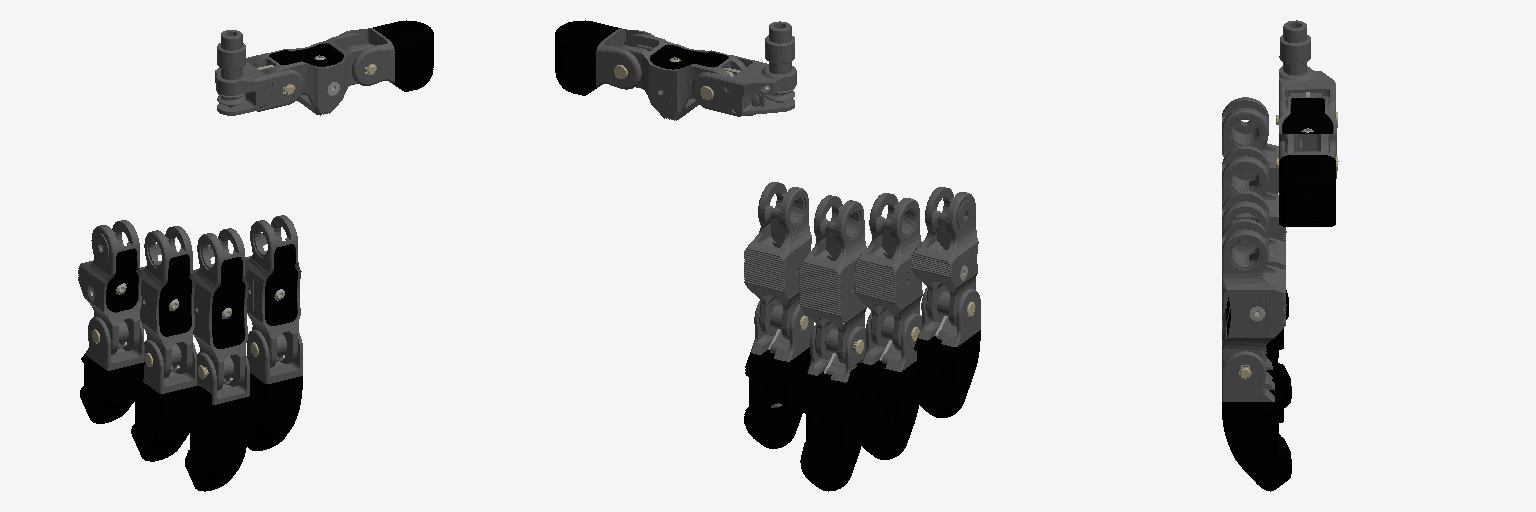
--- What the picture shows (computed from the rendered views, not written in the file) ---
Views: 3 orthographic renders of the robot side by side, from view 1: azimuth 30°, elevation 25°; view 2: azimuth 150°, elevation 25°; view 3: azimuth 270°, elevation 25°.
Model ur10e_robot with 23 links and 22 joints (17 revolute, 5 fixed), rooted at base_link, posed all joints at 0.
Visible links, largest first — view 1: mf_proximal, rf_proximal, if_proximal, mf_distal, lf_proximal, rf_distal, if_distal, lf_distal, th_inter, th_proximal, th_distal; view 2: mf_proximal, mf_distal, rf_proximal, if_proximal, if_distal, rf_distal, lf_proximal, lf_distal, th_proximal, th_inter, th_distal; view 3: if_distal, if_proximal, th_distal, th_proximal, th_inter, lf_proximal, rf_proximal, mf_proximal, rf_distal.
Boxes of the visible links, bbox=[...] form: mf_proximal: bbox=[193, 228, 248, 390]; rf_proximal: bbox=[140, 226, 195, 378]; if_proximal: bbox=[245, 215, 301, 367]; mf_distal: bbox=[185, 352, 249, 491]; lf_proximal: bbox=[78, 220, 142, 354]; rf_distal: bbox=[131, 340, 196, 461]; if_distal: bbox=[247, 330, 302, 450]; lf_distal: bbox=[80, 317, 144, 423]; th_inter: bbox=[252, 33, 376, 115]; th_proximal: bbox=[215, 30, 303, 115]; th_distal: bbox=[339, 20, 433, 91]; mf_proximal: bbox=[799, 195, 866, 364]; mf_distal: bbox=[800, 325, 865, 491]; rf_proximal: bbox=[855, 193, 922, 350]; if_proximal: bbox=[744, 182, 811, 340]; if_distal: bbox=[744, 301, 813, 448]; rf_distal: bbox=[855, 311, 921, 459]; lf_proximal: bbox=[911, 187, 978, 336]; lf_distal: bbox=[912, 288, 980, 417]; th_proximal: bbox=[692, 21, 796, 116]; th_inter: bbox=[614, 34, 745, 120]; th_distal: bbox=[555, 20, 654, 95]; if_distal: bbox=[1222, 348, 1291, 489]; if_proximal: bbox=[1222, 219, 1286, 367]; th_distal: bbox=[1279, 141, 1335, 226]; th_proximal: bbox=[1276, 20, 1337, 127]; th_inter: bbox=[1276, 96, 1338, 178]; lf_proximal: bbox=[1222, 97, 1278, 206]; rf_proximal: bbox=[1222, 146, 1286, 293]; mf_proximal: bbox=[1222, 191, 1285, 350]; rf_distal: bbox=[1222, 288, 1291, 407].
Size in the robot's own frame: 0.1735 by 0.0442 by 0.2008 metres.
11 mesh visuals loaded from 19 distinct referenced files (11 Collada DAE); not drawn: 8 (reference not matched to a file when rendering).

robot.urdf — ur10e_robot:
<?xml version="1.0" encoding="utf-8"?>
<!-- =================================================================================== -->
<!-- |    This document was autogenerated by xacro from ur10e.xacro                    | -->
<!-- |    EDITING THIS FILE BY HAND IS NOT RECOMMENDED                                 | -->
<!-- =================================================================================== -->
<robot name="ur10e_robot">
  <!--
    Base UR robot series xacro macro.

    NOTE: this is NOT a URDF. It cannot directly be loaded by consumers
    expecting a flattened '.urdf' file. See the top-level '.xacro' for that
    (but note: that .xacro must still be processed by the xacro command).

    For use in '.launch' files: use one of the 'load_urX.launch' convenience
    launch files.

    This file models the base kinematic chain of a UR robot, which then gets
    parameterised by various configuration files to convert it into a UR3(e),
    UR5(e), UR10(e) or UR16e.

    NOTE: the default kinematic parameters (ie: link lengths, frame locations,
    offets, etc) do not correspond to any particular robot. They are defaults
    only. There WILL be non-zero offsets between the Forward Kinematics results
    in TF (ie: robot_state_publisher) and the values reported by the Teach
    Pendant.

    For accurate (and robot-specific) transforms, the 'kinematics_parameters_file'
    parameter MUST point to a .yaml file containing the appropriate values for
    the targetted robot.

    If using the UniversalRobots/Universal_Robots_ROS_Driver, follow the steps
    described in the readme of that repository to extract the kinematic
    calibration from the controller and generate the required .yaml file.

    Main author of the migration to yaml configs: Ludovic Delval.

    Contributors to previous versions (in no particular order):

     - Felix Messmer
     - Kelsey Hawkins
     - Wim Meeussen
     - Shaun Edwards
     - Nadia Hammoudeh Garcia
     - Dave Hershberger
     - G. vd. Hoorn
     - Philip Long
     - Dave Coleman
     - Miguel Prada
     - Mathias Luedtke
     - Marcel Schnirring
     - Felix von Drigalski
     - Felix Exner
     - Jimmy Da Silva
     - Ajit Krisshna N L
     - Muhammad Asif Rana
  -->
  <!--
    NOTE: the macro defined in this file is NOT part of the public API of this
          package. Users CANNOT rely on this file being available, or stored in
          this location. Nor can they rely on the existence of the macro.
  -->
  <transmission name="shoulder_pan_trans">
    <type>transmission_interface/SimpleTransmission</type>
    <joint name="shoulder_pan_joint">
      <hardwareInterface>hardware_interface/PositionJointInterface</hardwareInterface>
    </joint>
    <actuator name="shoulder_pan_motor">
      <mechanicalReduction>1</mechanicalReduction>
    </actuator>
  </transmission>
  <transmission name="shoulder_lift_trans">
    <type>transmission_interface/SimpleTransmission</type>
    <joint name="shoulder_lift_joint">
      <hardwareInterface>hardware_interface/PositionJointInterface</hardwareInterface>
    </joint>
    <actuator name="shoulder_lift_motor">
      <mechanicalReduction>1</mechanicalReduction>
    </actuator>
  </transmission>
  <transmission name="elbow_trans">
    <type>transmission_interface/SimpleTransmission</type>
    <joint name="elbow_joint">
      <hardwareInterface>hardware_interface/PositionJointInterface</hardwareInterface>
    </joint>
    <actuator name="elbow_motor">
      <mechanicalReduction>1</mechanicalReduction>
    </actuator>
  </transmission>
  <transmission name="wrist_1_trans">
    <type>transmission_interface/SimpleTransmission</type>
    <joint name="wrist_1_joint">
      <hardwareInterface>hardware_interface/PositionJointInterface</hardwareInterface>
    </joint>
    <actuator name="wrist_1_motor">
      <mechanicalReduction>1</mechanicalReduction>
    </actuator>
  </transmission>
  <transmission name="wrist_2_trans">
    <type>transmission_interface/SimpleTransmission</type>
    <joint name="wrist_2_joint">
      <hardwareInterface>hardware_interface/PositionJointInterface</hardwareInterface>
    </joint>
    <actuator name="wrist_2_motor">
      <mechanicalReduction>1</mechanicalReduction>
    </actuator>
  </transmission>
  <transmission name="wrist_3_trans">
    <type>transmission_interface/SimpleTransmission</type>
    <joint name="wrist_3_joint">
      <hardwareInterface>hardware_interface/PositionJointInterface</hardwareInterface>
    </joint>
    <actuator name="wrist_3_motor">
      <mechanicalReduction>1</mechanicalReduction>
    </actuator>
  </transmission>
  <!-- links: main serial chain -->
  <link name="base_link"/>
  <link name="base_link_inertia">
    <visual>
      <!--origin rpy="0 0 3.14159265359" xyz="0 0 0"/-->
      <origin rpy="1.57079632679 0 0" xyz="0 0 0"/>
      <geometry>
        <mesh filename="../meshes/ur10e/visual/base.dae"/>
      </geometry>
      <material name="LightGrey">
        <color rgba="0.7 0.7 0.7 1.0"/>
      </material>
    </visual>
    <collision>
      <origin rpy="0 0 3.14159265359" xyz="0 0 0"/>
      <geometry>
        <mesh filename="../meshes/ur10e/collision/base.stl"/>
      </geometry>
    </collision>
    <inertial>
      <mass value="4.0"/>
      <origin rpy="0 0 0" xyz="0 0 0"/>
      <inertia ixx="0.0061063308908" ixy="0.0" ixz="0.0" iyy="0.0061063308908" iyz="0.0" izz="0.01125"/>
    </inertial>
  </link>

  <link name="shoulder_link">
    <visual>
      <origin rpy="1.57079632679 0 3.14159265359" xyz="0 0 0"/>
      <geometry>
        <mesh filename="../meshes/ur10e/visual/shoulder.dae"/>
      </geometry>
      <material name="LightGrey">
        <color rgba="0.7 0.7 0.7 1.0"/>
      </material>
    </visual>
    <collision>
      <origin rpy="0 0 3.14159265359" xyz="0 0 0"/>
      <geometry>
        <mesh filename="../meshes/ur10e/collision/shoulder.stl"/>
      </geometry>
    </collision>
    <inertial>
      <mass value="7.778"/>
      <origin rpy="0 0 0" xyz="0 0 0"/>
      <inertia ixx="0.0314743125769" ixy="0.0" ixz="0.0" iyy="0.0314743125769" iyz="0.0" izz="0.021875625"/>
    </inertial>
  </link>

  <link name="upper_arm_link">
    <visual>
      <origin rpy="3.14159265359 0 -1.57079632679" xyz="0 0 0.1762"/>
      <geometry>
        <mesh filename="../meshes/ur10e/visual/upperarm.dae"/>
      </geometry>
      <material name="LightGrey">
        <color rgba="0.7 0.7 0.7 1.0"/>
      </material>
    </visual>
    <collision>
      <origin rpy="1.57079632679 0 -1.57079632679" xyz="0 0 0.1762"/>
      <geometry>
        <mesh filename="../meshes/ur10e/collision/upperarm.stl"/>
      </geometry>
    </collision>
    <inertial>
      <mass value="12.93"/>
      <origin rpy="0 1.57079632679 0" xyz="-0.306 0.0 0.175"/>
      <inertia ixx="0.421753803798" ixy="0.0" ixz="0.0" iyy="0.421753803798" iyz="0.0" izz="0.036365625"/>
    </inertial>
  </link>
  <link name="forearm_link">
    <visual>
      <origin rpy="3.14159265359 0 -1.57079632679" xyz="0 0 0.0393"/>
      <geometry>
        <mesh filename="../meshes/ur10e/visual/forearm.dae"/>
      </geometry>
      <material name="LightGrey">
        <color rgba="0.7 0.7 0.7 1.0"/>
      </material>
    </visual>
    <collision>
      <origin rpy="1.57079632679 0 -1.57079632679" xyz="0 0 0.0393"/>
      <geometry>
        <mesh filename="../meshes/ur10e/collision/forearm.stl"/>
      </geometry>
    </collision>
    <inertial>
      <mass value="3.87"/>
      <origin rpy="0 1.57079632679 0" xyz="-0.285775 0.0 0.0393"/>
      <inertia ixx="0.110793025489" ixy="0.0" ixz="0.0" iyy="0.110793025489" iyz="0.0" izz="0.010884375"/>
    </inertial>
  </link>
  <link name="wrist_1_link">
    <visual>
      <!-- TODO: Move this to a parameter -->
      <origin rpy="3.14159265359 0 0" xyz="0 0 -0.135"/>
      <geometry>
        <mesh filename="../meshes/ur10e/visual/wrist1.dae"/>
      </geometry>
      <material name="LightGrey">
        <color rgba="0.7 0.7 0.7 1.0"/>
      </material>
    </visual>
    <collision>
      <origin rpy="1.57079632679 0 0" xyz="0 0 -0.135"/>
      <geometry>
        <mesh filename="../meshes/ur10e/collision/wrist1.stl"/>
      </geometry>
    </collision>
    <inertial>
      <mass value="1.96"/>
      <origin rpy="0 0 0" xyz="0 0 0"/>
      <inertia ixx="0.0051082479567" ixy="0.0" ixz="0.0" iyy="0.0051082479567" iyz="0.0" izz="0.0055125"/>
    </inertial>
  </link>
  <link name="wrist_2_link">
    <visual>
      <origin rpy="1.57079632679 0 0" xyz="0 0 -0.12"/>
      <geometry>
        <mesh filename="../meshes/ur10e/visual/wrist2.dae"/>
      </geometry>
      <material name="LightGrey">
        <color rgba="0.7 0.7 0.7 1.0"/>
      </material>
    </visual>
    <collision>
      <origin rpy="0 0 0" xyz="0 0 -0.12"/>
      <geometry>
        <mesh filename="../meshes/ur10e/collision/wrist2.stl"/>
      </geometry>
    </collision>
    <inertial>
      <mass value="1.96"/>
      <origin rpy="0 0 0" xyz="0 0 0"/>
      <inertia ixx="0.0051082479567" ixy="0.0" ixz="0.0" iyy="0.0051082479567" iyz="0.0" izz="0.0055125"/>
    </inertial>
  </link>
  <link name="wrist_3_link">
    <visual>
      <origin rpy="3.14159265359 0 0" xyz="0 0 -0.1168"/>
      <geometry>
        <mesh filename="../meshes/ur10e/visual/wrist3.dae"/>
      </geometry>
      <material name="LightGrey">
        <color rgba="0.7 0.7 0.7 1.0"/>
      </material>
    </visual>
    <collision>
      <origin rpy="1.57079632679 0 0" xyz="0 0 -0.1168"/>
      <geometry>
        <mesh filename="../meshes/ur10e/collision/wrist3.stl"/>
      </geometry>
    </collision>
    <inertial>
      <mass value="0.202"/>
      <origin rpy="0 0 0" xyz="0.0 0.0 -0.025"/>
      <inertia ixx="0.000144345775595" ixy="0.0" ixz="0.0" iyy="0.000144345775595" iyz="0.0" izz="0.000204525"/>
    </inertial>
  </link>
  <!-- joints: main serial chain -->
  <joint name="base_link-base_link_inertia" type="fixed">
    <parent link="base_link"/>
    <child link="base_link_inertia"/>
    <!-- 'base_link' is REP-103 aligned (so X+ forward), while the internal
           frames of the robot/controller have X+ pointing backwards.
           Use the joint between 'base_link' and 'base_link_inertia' (a dummy
           link/frame) to introduce the necessary rotation over Z (of pi rad).
      -->
    <origin rpy="0 0 3.14159265359" xyz="0 0 0"/>
  </joint>
  <joint name="shoulder_pan_joint" type="revolute">
    <parent link="base_link_inertia"/>
    <child link="shoulder_link"/>
    <origin rpy="0 0 0" xyz="0 0 0.1807"/>
    <axis xyz="0 0 1"/>
    <limit effort="330.0" lower="-6.28318530718" upper="6.28318530718" velocity="2.09439510239"/>
    <dynamics damping="0" friction="0"/>
  </joint>
  <joint name="shoulder_lift_joint" type="revolute">
    <parent link="shoulder_link"/>
    <child link="upper_arm_link"/>
    <origin rpy="1.570796327 0 0" xyz="0 0 0"/>
    <axis xyz="0 0 1"/>
    <limit effort="330.0" lower="-6.28318530718" upper="6.28318530718" velocity="2.09439510239"/>
    <dynamics damping="0" friction="0"/>
  </joint>
  <joint name="elbow_joint" type="revolute">
    <parent link="upper_arm_link"/>
    <child link="forearm_link"/>
    <origin rpy="0 0 0" xyz="-0.6127 0 0"/>
    <axis xyz="0 0 1"/>
    <limit effort="150.0" lower="-3.14159265359" upper="3.14159265359" velocity="3.14159265359"/>
    <dynamics damping="0" friction="0"/>
  </joint>
  <joint name="wrist_1_joint" type="revolute">
    <parent link="forearm_link"/>
    <child link="wrist_1_link"/>
    <origin rpy="0 0 0" xyz="-0.57155 0 0.17415"/>
    <axis xyz="0 0 1"/>
    <limit effort="56.0" lower="-6.28318530718" upper="6.28318530718" velocity="3.14159265359"/>
    <dynamics damping="0" friction="0"/>
  </joint>
  <joint name="wrist_2_joint" type="revolute">
    <parent link="wrist_1_link"/>
    <child link="wrist_2_link"/>
    <origin rpy="1.570796327 0 0" xyz="0 -0.11985 -2.45816459076e-11"/>
    <axis xyz="0 0 1"/>
    <limit effort="56.0" lower="-6.28318530718" upper="6.28318530718" velocity="3.14159265359"/>
    <dynamics damping="0" friction="0"/>
  </joint>
  <joint name="wrist_3_joint" type="revolute">
    <parent link="wrist_2_link"/>
    <child link="wrist_3_link"/>
    <origin rpy="1.57079632659 3.14159265359 3.14159265359" xyz="0 0.11655 -2.39048045935e-11"/>
    <axis xyz="0 0 1"/>
    <limit effort="56.0" lower="-6.28318530718" upper="6.28318530718" velocity="3.14159265359"/>
    <dynamics damping="0" friction="0"/>
  </joint>

  <!-- ROS-Industrial 'base' frame: base_link to UR 'Base' Coordinates transform -->
  <link name="base"/>
  <joint name="base_link-base_fixed_joint" type="fixed">
    <!-- Note the rotation over Z of pi radians: as base_link is REP-103
           aligned (ie: has X+ forward, Y+ left and Z+ up), this is needed
           to correctly align 'base' with the 'Base' coordinate system of
           the UR controller.
      -->
    <origin rpy="0 0 3.14159265359" xyz="0 0 0"/>
    <parent link="base_link"/>
    <child link="base"/>
  </joint>
  <!-- ROS-Industrial 'flange' frame: attachment point for EEF models -->
  <link name="flange"/>
  <joint name="wrist_3-flange" type="fixed">
    <parent link="wrist_3_link"/>
    <child link="flange"/>
    <origin rpy="0 -1.57079632679 -1.57079632679" xyz="0 0 0"/>
  </joint>
  <!-- ROS-Industrial 'tool0' frame: all-zeros tool frame -->
  <link name="tool0"/>
  <joint name="flange-tool0" type="fixed">
    <!-- default toolframe: X+ left, Y+ up, Z+ front -->
    <origin rpy="1.57079632679 0 1.57079632679" xyz="0 0 0"/>
    <parent link="flange"/>
    <child link="tool0"/>
  </joint>

    # SIH Hand

    # Palm
    <link name="palm">
        <visual>
            <geometry>
                <mesh filename="../meshes/schunk_sih_right/visual/palm.dae" scale="0.001 0.001 0.001"/>
            </geometry>
            <material name="silver"/>
            <origin rpy="1.57079632679 0 0" xyz="0 0 0"/>
        </visual>
        <collision>
            <geometry>
                <mesh filename="../meshes/schunk_sih_right/collision/palm.stl" scale="0.001 0.001 0.001"/>
            </geometry>
        </collision>
        <inertial>
            <mass value="1.0"/>
            <origin rpy="0 0 0" xyz="0.0 0.0 0.0"/>
            <inertia ixx="0.0001" ixy="0.0001" ixz="0.0001" iyy="0.0001" iyz="0.0001" izz="0.0001"/>
        </inertial>
    </link>

    # Index finger
    <link name="if_proximal">
        <visual>
            <geometry>
                <mesh filename="../meshes/schunk_sih_right/visual/if_proximal.dae" scale="0.001 0.001 0.001"/>
            </geometry>
            <material name="silver"/>
            <origin rpy="1.57079632679 0 0" xyz="-0.0435 0 -0.141"/>
        </visual>
        <collision>
            <geometry>
                <mesh filename="../meshes/schunk_sih_right/collision/if_proximal.stl" scale="0.001 0.001 0.001"/>
            </geometry>
            <origin rpy="0 0 0" xyz="-0.0435 0 -0.141"/>
        </collision>
        <inertial>
            <mass value="0.100"/>
            <origin rpy="0 0 0" xyz="0.0 0.0 0.0"/>
            <inertia ixx="0.0001" ixy="0.0001" ixz="0.0001" iyy="0.0001" iyz="0.0001" izz="0.0001"/>
        </inertial>
    </link>
    <joint name="palm_to_if_proximal" type="revolute">
        <parent link="palm"/>
        <child link="if_proximal"/>
        <origin xyz="0.0435 0 0.141"/>
        <axis xyz="1 0 0"/>
        <limit effort="330.0" lower="-1.571" upper="0.0"/>
        <dynamics damping="0.1" friction="0"/>
    </joint>
    <link name="if_distal">
        <visual>
            <geometry>
                <mesh filename="../meshes/schunk_sih_right/visual/if_distal.dae" scale="0.001 0.001 0.001"/>
            </geometry>
            <material name="silver"/>
            <origin rpy="1.57079632679 0 0" xyz="-0.0435 0 -0.189"/>
        </visual>
        <collision>
            <geometry>
                <mesh filename="../meshes/schunk_sih_right/collision/if_distal.stl" scale="0.001 0.001 0.001"/>
            </geometry>
            <origin rpy="0 0 0" xyz="-0.0435 0 -0.189"/>
        </collision>
        <inertial>
            <mass value="0.100"/>
            <origin rpy="0 0 0" xyz="0.0 0.0 0.0"/>
            <inertia ixx="0.0001" ixy="0.0001" ixz="0.0001" iyy="0.0001" iyz="0.0001" izz="0.0001"/>
        </inertial>
    </link>
    <joint name="if_proximal_to_if_distal" type="revolute">
        <parent link="if_proximal"/>
        <child link="if_distal"/>
        <origin xyz="0 0 0.048"/>
        <axis xyz="1 0 0"/>
        <limit effort="330.0" lower="-1.571" upper="0.0"/>
        <dynamics damping="0.1" friction="0"/>
    </joint>

    # Middle finger
    <link name="mf_proximal">
        <visual>
            <geometry>
                <mesh filename="../meshes/schunk_sih_right/visual/mf_proximal.dae" scale="0.001 0.001 0.001"/>
            </geometry>
            <material name="silver"/>
            <origin rpy="1.57079632679 0 0" xyz="-0.0187 0 -0.141"/>
        </visual>
        <collision>
            <geometry>
                <mesh filename="../meshes/schunk_sih_right/collision/mf_proximal.stl" scale="0.001 0.001 0.001"/>
            </geometry>
            <origin rpy="0 0 0" xyz="-0.0187 0 -0.141"/>
        </collision>
        <inertial>
            <mass value="0.100"/>
            <origin rpy="0 0 0" xyz="0.0 0.0 0.0"/>
            <inertia ixx="0.0001" ixy="0.0001" ixz="0.0001" iyy="0.0001" iyz="0.0001" izz="0.0001"/>
        </inertial>
    </link>
    <joint name="palm_to_mf_proximal" type="revolute">
        <parent link="palm"/>
        <child link="mf_proximal"/>
        <origin xyz="0.0187 0 0.141"/>
        <axis xyz="1 0 0"/>
        <limit effort="330.0" lower="-1.571" upper="0.0"/>
        <dynamics damping="0.1" friction="0"/>
    </joint>
    <link name="mf_distal">
        <visual>
            <geometry>
                <mesh filename="../meshes/schunk_sih_right/visual/mf_distal.dae" scale="0.001 0.001 0.001"/>
            </geometry>
            <material name="silver"/>
            <origin rpy="1.57079632679 0 0" xyz="-0.0187 0 -0.1935"/>
        </visual>
        <collision>
            <geometry>
                <mesh filename="../meshes/schunk_sih_right/collision/mf_distal.stl" scale="0.001 0.001 0.001"/>
            </geometry>
            <origin rpy="0 0 0" xyz="-0.0187 0 -0.1935"/>
        </collision>
        <inertial>
            <mass value="0.100"/>
            <origin rpy="0 0 0" xyz="0.0 0.0 0.0"/>
            <inertia ixx="0.0001" ixy="0.0001" ixz="0.0001" iyy="0.0001" iyz="0.0001" izz="0.0001"/>
        </inertial>
    </link>
    <joint name="mf_proximal_to_mf_distal" type="revolute">
        <parent link="mf_proximal"/>
        <child link="mf_distal"/>
        <origin xyz="0 0 0.0525"/>
        <axis xyz="1 0 0"/>
        <limit effort="330.0" lower="-1.571" upper="0.0"/>
        <dynamics damping="0.1" friction="0"/>
    </joint>

    # Ring finger
    <link name="rf_proximal">
        <visual>
            <geometry>
                <mesh filename="../meshes/schunk_sih_right/visual/rf_proximal.dae" scale="0.001 0.001 0.001"/>
            </geometry>
            <material name="silver"/>
            <origin rpy="1.57079632679 0 0" xyz="0.0069 0 -0.134"/>
        </visual>
        <collision>
            <geometry>
                <mesh filename="../meshes/schunk_sih_right/collision/rf_proximal.stl" scale="0.001 0.001 0.001"/>
            </geometry>
            <origin rpy="0 0 0" xyz="0.0069 0 -0.134"/>
        </collision>
        <inertial>
            <mass value="0.100"/>
            <origin rpy="0 0 0" xyz="0.0 0.0 0.0"/>
            <inertia ixx="0.0001" ixy="0.0001" ixz="0.0001" iyy="0.0001" iyz="0.0001" izz="0.0001"/>
        </inertial>
    </link>
    <joint name="palm_to_rf_proximal" type="revolute">
        <parent link="palm"/>
        <child link="rf_proximal"/>
        <origin xyz="-0.0069 0 0.134"/>
        <axis xyz="1 0 0"/>
        <limit effort="330.0" lower="-1.571" upper="0.0"/>
        <dynamics damping="0.1" friction="0"/>
    </joint>
    <link name="rf_distal">
        <visual>
            <geometry>
                <mesh filename="../meshes/schunk_sih_right/visual/rf_distal.dae" scale="0.001 0.001 0.001"/>
            </geometry>
            <material name="silver"/>
            <origin rpy="1.57079632679 0 0" xyz="0.0069 0 -0.182"/>
        </visual>
        <collision>
            <geometry>
                <mesh filename="../meshes/schunk_sih_right/collision/rf_distal.stl" scale="0.001 0.001 0.001"/>
            </geometry>
            <origin rpy="0 0 0" xyz="0.0069 0 -0.182"/>
        </collision>
        <inertial>
            <mass value="0.100"/>
            <origin rpy="0 0 0" xyz="0.0 0.0 0.0"/>
            <inertia ixx="0.0001" ixy="0.0001" ixz="0.0001" iyy="0.0001" iyz="0.0001" izz="0.0001"/>
        </inertial>
    </link>
    <joint name="rf_proximal_to_rf_distal" type="revolute">
        <parent link="rf_proximal"/>
        <child link="rf_distal"/>
        <origin xyz="0 0 0.048"/>
        <axis xyz="1 0 0"/>
        <limit effort="330.0" lower="-1.571" upper="0.0"/>
        <dynamics damping="0.1" friction="0"/>
    </joint>

    # Little finger
    <link name="lf_proximal">
        <visual>
            <geometry>
                <mesh filename="../meshes/schunk_sih_right/visual/lf_proximal.dae" scale="0.001 0.001 0.001"/>
            </geometry>
            <material name="silver"/>
            <origin rpy="1.57079632679 0 0" xyz="0.032 0 -0.1254"/>
        </visual>
        <collision>
            <geometry>
                <mesh filename="../meshes/schunk_sih_right/collision/lf_proximal.stl" scale="0.001 0.001 0.001"/>
            </geometry>
            <origin rpy="0 0 0" xyz="0.032 0 -0.1254"/>
        </collision>
        <inertial>
            <mass value="0.100"/>
            <origin rpy="0 0 0" xyz="0.0 0.0 0.0"/>
            <inertia ixx="0.0001" ixy="0.0001" ixz="0.0001" iyy="0.0001" iyz="0.0001" izz="0.0001"/>
        </inertial>
    </link>
    <joint name="palm_to_lf_proximal" type="revolute">
        <parent link="palm"/>
        <child link="lf_proximal"/>
        <origin xyz="-0.032 0 0.1254"/>
        <axis xyz="1 0 0"/>
        <limit effort="330.0" lower="-1.571" upper="0.0"/>
        <dynamics damping="0.1" friction="0"/>
    </joint>
    <link name="lf_distal">
        <visual>
            <geometry>
                <mesh filename="../meshes/schunk_sih_right/visual/lf_distal.dae" scale="0.001 0.001 0.001"/>
            </geometry>
            <material name="silver"/>
            <origin rpy="1.57079632679 0 0" xyz="0.032 0 -0.1655"/>
        </visual>
        <collision>
            <geometry>
                <mesh filename="../meshes/schunk_sih_right/collision/lf_distal.stl" scale="0.001 0.001 0.001"/>
            </geometry>
            <origin rpy="0 0 0" xyz="0.032 0 -0.1655"/>
        </collision>
        <inertial>
            <mass value="0.100"/>
            <origin rpy="0 0 0" xyz="0.0 0.0 0.0"/>
            <inertia ixx="0.0001" ixy="0.0001" ixz="0.0001" iyy="0.0001" iyz="0.0001" izz="0.0001"/>
        </inertial>
    </link>
    <joint name="lf_proximal_to_lf_distal" type="revolute">
        <parent link="lf_proximal"/>
        <child link="lf_distal"/>
        <origin xyz="0 0 0.0401"/>
        <axis xyz="1 0 0"/>
        <limit effort="330.0" lower="-1.571" upper="0.0"/>
        <dynamics damping="0.1" friction="0"/>
    </joint>

    # Thumb
    <link name="th_proximal">
        <visual>
            <geometry>
                <mesh filename="../meshes/schunk_sih_right/visual/th_proximal.dae" scale="0.001 0.001 0.001"/>
            </geometry>
            <material name="silver"/>
            <origin rpy="1.57079632679 0 0" xyz="0.034 -0.019 -0.08"/>
        </visual>
        <collision>
            <geometry>
                <mesh filename="../meshes/schunk_sih_right/collision/th_proximal.stl" scale="0.001 0.001 0.001"/>
            </geometry>
            <origin rpy="0 0 0" xyz="0.034 -0.019 -0.08"/>
        </collision>
        <inertial>
            <mass value="0.100"/>
            <origin rpy="0 0 0" xyz="0.0 0.0 0.0"/>
            <inertia ixx="0.0001" ixy="0.0001" ixz="0.0001" iyy="0.0001" iyz="0.0001" izz="0.0001"/>
        </inertial>
    </link>
    <joint name="palm_to_th_proximal" type="revolute">
        <parent link="palm"/>
        <child link="th_proximal"/>
        <origin xyz="-0.034 0.019 0.08"/>
        <axis xyz="0 0 1"/>
        <limit effort="330.0" lower="-1.571" upper="0.0"/>
        <dynamics damping="0.1" friction="0"/>
    </joint>
    <link name="th_inter">
        <visual>
            <geometry>
                <mesh filename="../meshes/schunk_sih_right/visual/th_inter.dae" scale="0.001 0.001 0.001"/>
            </geometry>
            <material name="silver"/>
            <origin rpy="1.57079632679 0 0" xyz="0.058 -0.024 -0.081"/>
        </visual>
        <collision>
            <geometry>
                <mesh filename="../meshes/schunk_sih_right/collision/th_inter_cvx.stl" scale="0.001 0.001 0.001"/>
            </geometry>
            <origin rpy="0 0 0" xyz="0.058 -0.024 -0.081"/>
        </collision>
        <inertial>
            <mass value="0.100"/>
            <origin rpy="0 0 0" xyz="0.0 0.0 0.0"/>
            <inertia ixx="0.0001" ixy="0.0001" ixz="0.0001" iyy="0.0001" iyz="0.0001" izz="0.0001"/>
        </inertial>
    </link>
    <joint name="th_proximal_to_th_inter" type="revolute">
        <parent link="th_proximal"/>
        <child link="th_inter"/>
        <origin xyz="-0.024 0.005 0.001"/>
        <axis xyz="0 1 0"/>
        <limit effort="330.0" lower="0.0" upper="1.571"/>
        <dynamics damping="0.1" friction="0"/>
    </joint>
    <link name="th_distal">
        <visual>
            <geometry>
                <mesh filename="../meshes/schunk_sih_right/visual/th_distal.dae" scale="0.001 0.001 0.001"/>
            </geometry>
            <material name="silver"/>
            <origin rpy="1.57079632679 0 0" xyz="0.0971 -0.024 -0.081"/>
        </visual>
        <collision>
            <geometry>
                <mesh filename="../meshes/schunk_sih_right/collision/th_distal.stl" scale="0.001 0.001 0.001"/>
            </geometry>
            <origin rpy="0 0 0" xyz="0.0971 -0.024 -0.081"/>
        </collision>
        <inertial>
            <mass value="0.100"/>
            <origin rpy="0 0 0" xyz="0.0 0.0 0.0"/>
            <inertia ixx="0.0001" ixy="0.0001" ixz="0.0001" iyy="0.0001" iyz="0.0001" izz="0.0001"/>
        </inertial>
    </link>
    <joint name="th_inter_to_th_distal" type="revolute">
        <parent link="th_inter"/>
        <child link="th_distal"/>
        <origin xyz="-0.0391 0 0"/>
        <axis xyz="0 1 0"/>
        <limit effort="330.0" lower="0.0" upper="1.571"/>
        <dynamics damping="0.1" friction="0"/>
    </joint>



  <joint name="flange-palm" type="fixed">
    <!-- default toolframe: X+ left, Y+ up, Z+ front -->
    <origin rpy="1.5707 0 1.57079632679" xyz="0 0 0"/>
    <parent link="flange"/>
    <child link="palm"/>
  </joint>


</robot>
